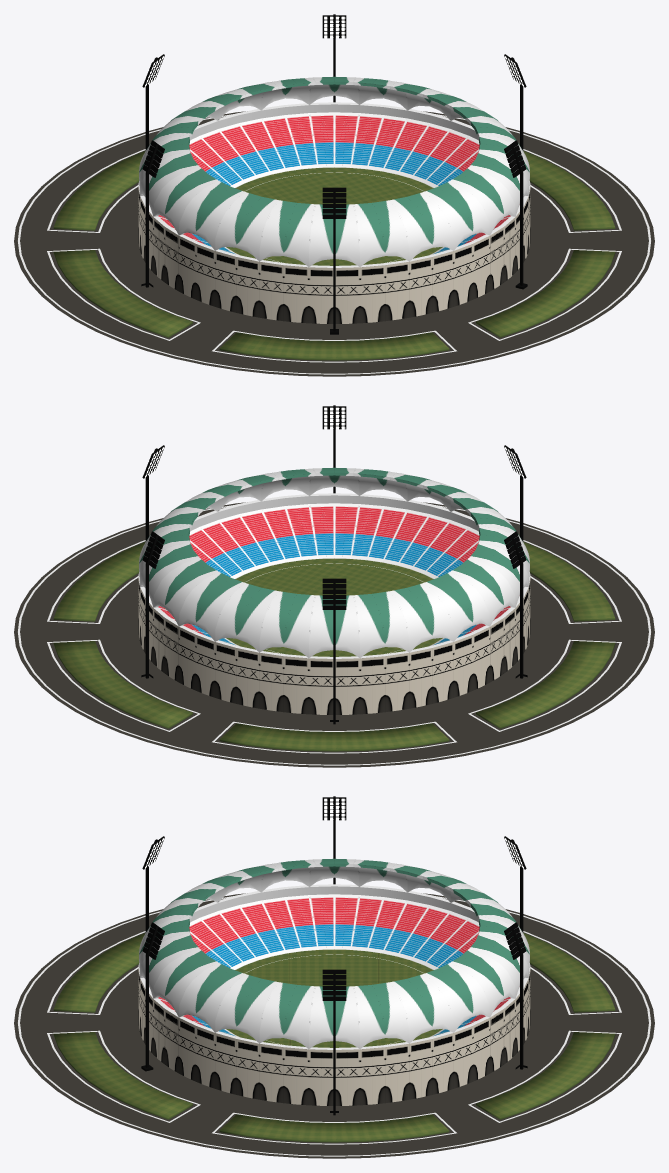
Rendered from ekana_stadium_low_poly_lucknow_city_game_asset.glb.
3 renders of one model, top to bottom at view 1: azimuth 30°, elevation 25°; view 2: azimuth 150°, elevation 25°; view 3: azimuth 270°, elevation 25°, orthographic.
Parts seen in each view (by area): view 1: Ekana Stadium; view 2: Ekana Stadium; view 3: Ekana Stadium.
Boxes of the visible parts, left/top/right/bottom form: Ekana Stadium: left=14, top=14, right=654, bottom=376; Ekana Stadium: left=14, top=405, right=654, bottom=767; Ekana Stadium: left=14, top=796, right=654, bottom=1158.
Bounding box in the file's own units: 95.04 × 22.94 × 95.04.
Materials: 1 (1 with a texture image).
